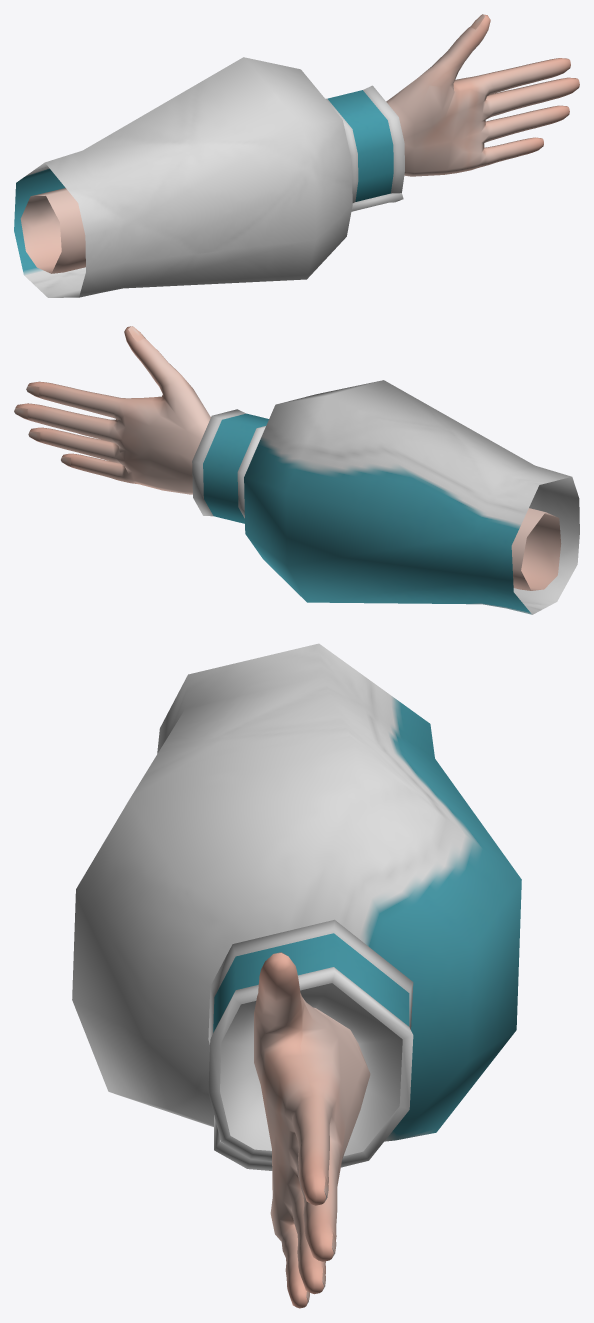
File: KOSHIRO_Brazo_1.obj
3 views of the same model, one above another, from view 1: azimuth 30°, elevation 25°; view 2: azimuth 150°, elevation 25°; view 3: azimuth 270°, elevation 25° (orthographic). The views are drawn at different scales.
Parts seen in each view (by area): view 1: Brazo_1_face_Plane.001; view 2: Brazo_1_face_Plane.001; view 3: Brazo_1_face_Plane.001.
Part boxes in pixels (x1,y1,x2,y2): Brazo_1_face_Plane.001: (14,14,579,297); Brazo_1_face_Plane.001: (14,326,579,614); Brazo_1_face_Plane.001: (72,643,521,1308).
Size of the model in its own units: 0.3601 by 0.1316 by 0.1324.
